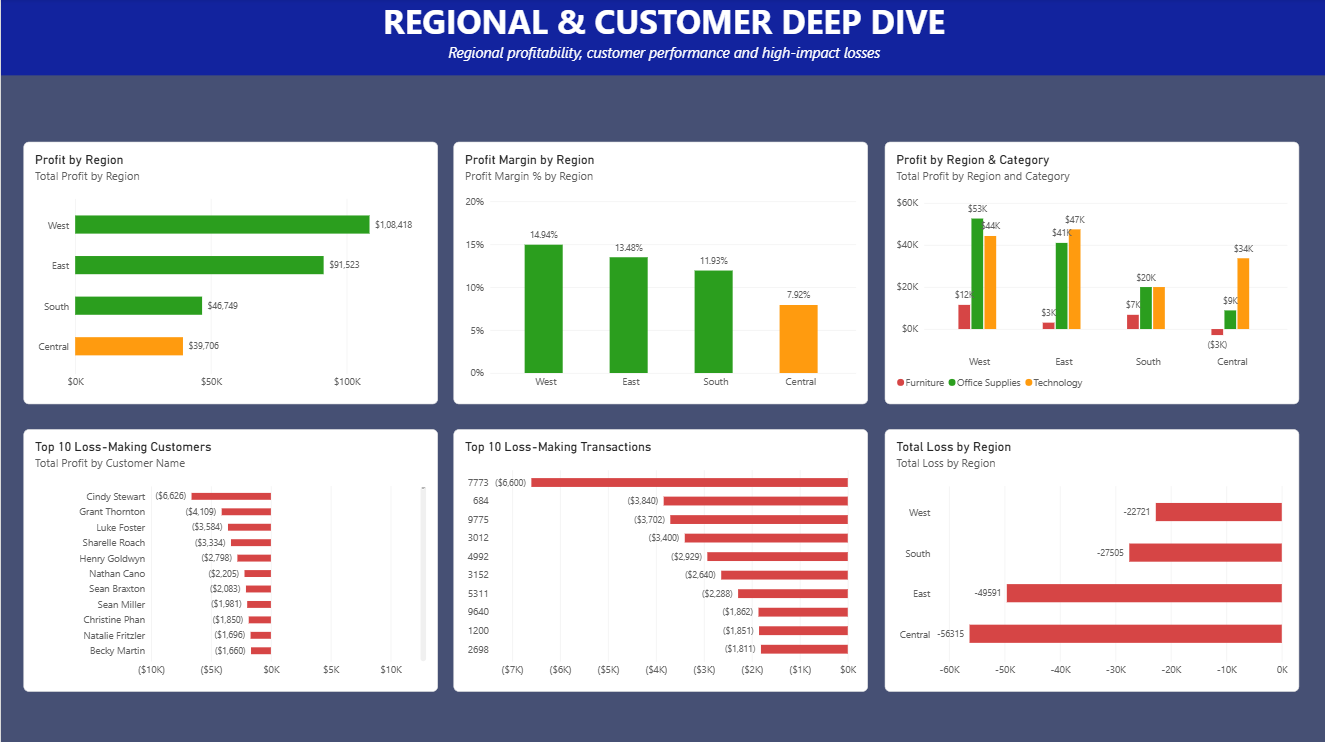

The page's visual inventory and layout, read from the dashboard file:
{"tool":"powerbi","page":{"name":"Regional & Customer Deep Dive","canvas":[1920,1080],"ordinal":2},"visuals":[{"type":"textbox","box":[0,0,1920,112],"z":0},{"type":"clusteredBarChart","title":"Profit by Region","fields":{"Category":["superstore_cleaned.Region"],"Y":["superstore_cleaned.Total Profit"]},"box":[32,208,600,380],"z":1000},{"type":"clusteredColumnChart","title":"Profit Margin by Region","fields":{"Category":["superstore_cleaned.Region"],"Y":["superstore_cleaned.Profit Margin %"]},"box":[656,208,600,380],"z":2000},{"type":"clusteredColumnChart","title":"Profit by Region & Category","fields":{"Category":["superstore_cleaned.Region"],"Series":["superstore_cleaned.Category"],"Y":["superstore_cleaned.Total Profit"]},"box":[1280,208,600,380],"z":3000},{"type":"barChart","title":"Top 10 Loss-Making Customers","fields":{"Category":["superstore_cleaned.Customer Name"],"Y":["superstore_cleaned.Total Profit"]},"box":[32,624,600,380],"z":4000},{"type":"clusteredBarChart","title":"Total Loss by Region","fields":{"Category":["superstore_cleaned.Region"],"Y":["superstore_cleaned.Total Loss"]},"box":[1280,624,600,380],"z":5000},{"type":"clusteredBarChart","title":"Top 10 Loss-Making Transactions","fields":{"Category":["superstore_cleaned.Row ID"],"Y":["superstore_cleaned.Total Profit"]},"box":[656,624,600,380],"z":6000}]}

Visuals, with their boxes in screenshot pixels (x1, y1, x2, y2), scaled from the page's 1920x1080 canvas onto the 1325x742 screenshot:
textbox: <bbox>0, 0, 1324, 77</bbox>
"Profit by Region" clusteredBarChart: <bbox>22, 143, 436, 404</bbox>
"Profit Margin by Region" clusteredColumnChart: <bbox>453, 143, 867, 404</bbox>
"Profit by Region & Category" clusteredColumnChart: <bbox>883, 143, 1297, 404</bbox>
"Top 10 Loss-Making Customers" barChart: <bbox>22, 429, 436, 690</bbox>
"Total Loss by Region" clusteredBarChart: <bbox>883, 429, 1297, 690</bbox>
"Top 10 Loss-Making Transactions" clusteredBarChart: <bbox>453, 429, 867, 690</bbox>
